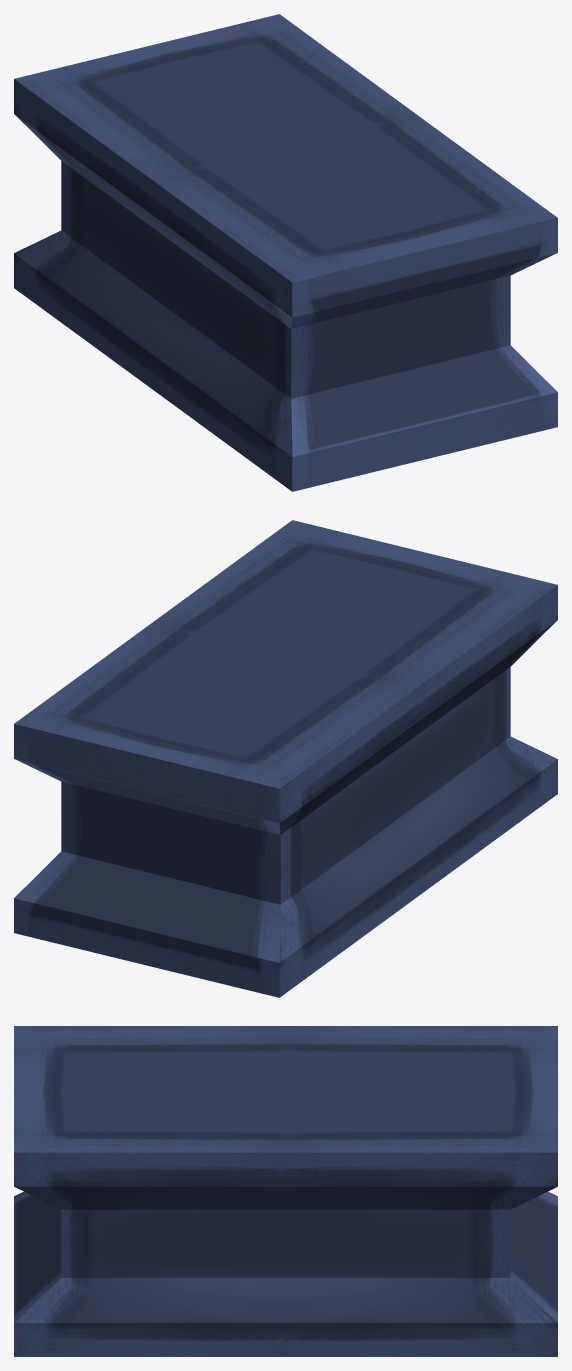
Rendered from Altar.fbx.
The picture shows the model from 3 angles, top to bottom: view 1: azimuth 30°, elevation 25°; view 2: azimuth 150°, elevation 25°; view 3: azimuth 270°, elevation 25°; orthographic projection. The views are drawn at different scales.
Parts seen in each view (by area): view 1: Cube; view 2: Cube; view 3: Cube.
Boxes of the visible parts, x1,y1,x2,y2 form: Cube: (14, 14, 557, 491); Cube: (14, 520, 557, 997); Cube: (14, 1026, 557, 1356).
Bounding box in the file's own units: 151 × 113 × 273.
Materials: 1 (1 with a texture image).
